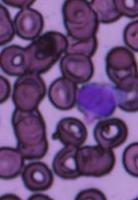L: (74, 81, 119, 120)
